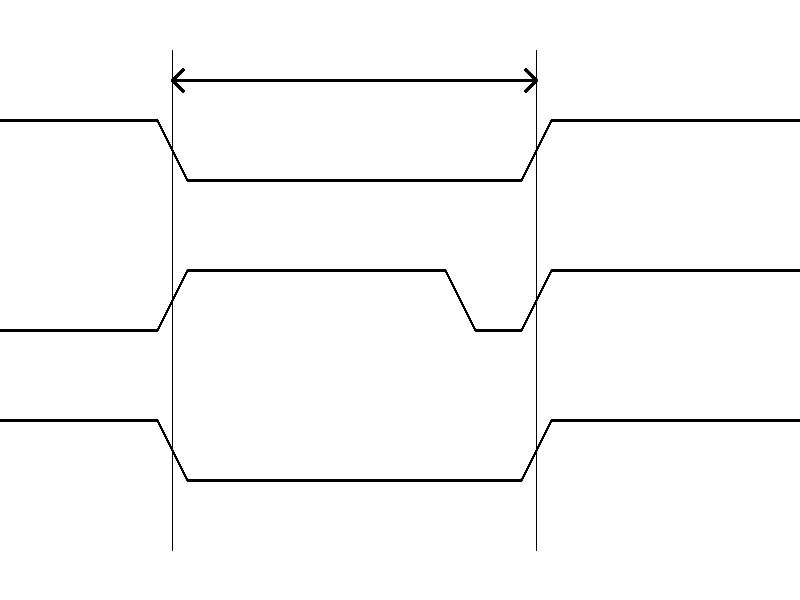double_arrow: (172, 65, 536, 95)
